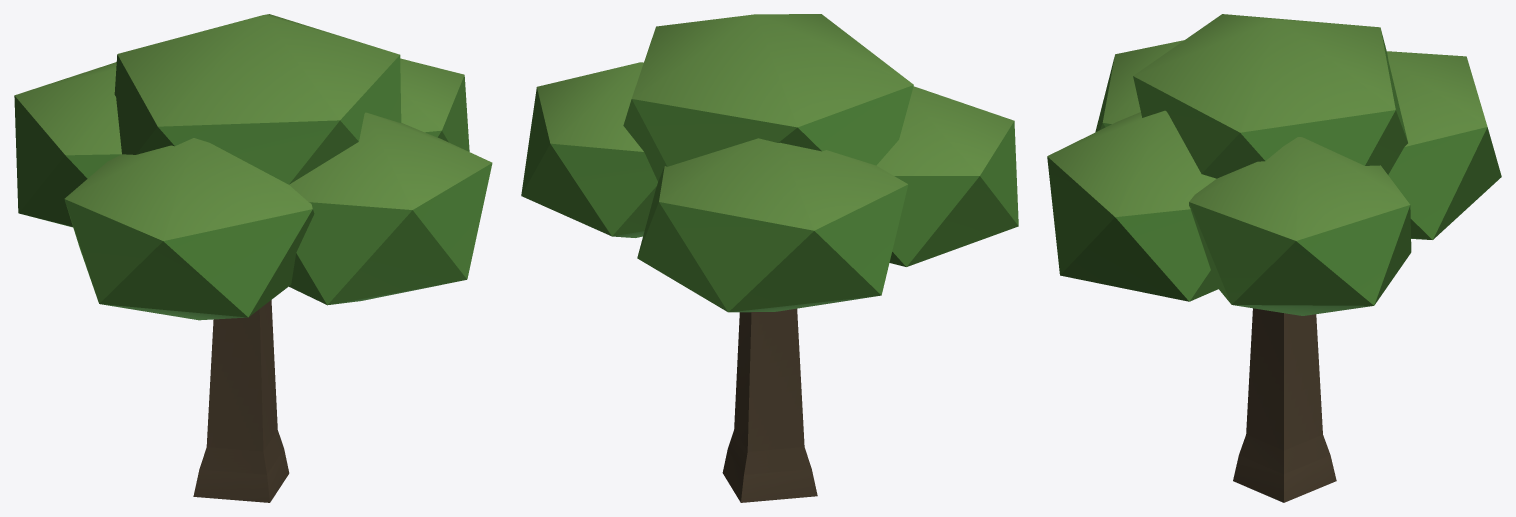
The model's file is SM_Tree_Oak_Medium02_LOD1.fbx.
3 views of the same model, side by side, from view 1: azimuth 30°, elevation 25°; view 2: azimuth 150°, elevation 25°; view 3: azimuth 270°, elevation 25° (orthographic).
Parts seen in each view (by area): view 1: SM_Tree_Oak_Medium02_LOD1; view 2: SM_Tree_Oak_Medium02_LOD1; view 3: SM_Tree_Oak_Medium02_LOD1.
Part boxes in pixels (x1,y1,x2,y2): SM_Tree_Oak_Medium02_LOD1: (14, 14, 492, 502); SM_Tree_Oak_Medium02_LOD1: (521, 14, 1018, 502); SM_Tree_Oak_Medium02_LOD1: (1047, 14, 1501, 502).
Size of the model in its own units: 13.96 by 14.65 by 12.88.
Materials: 1 (1 with a texture image).
